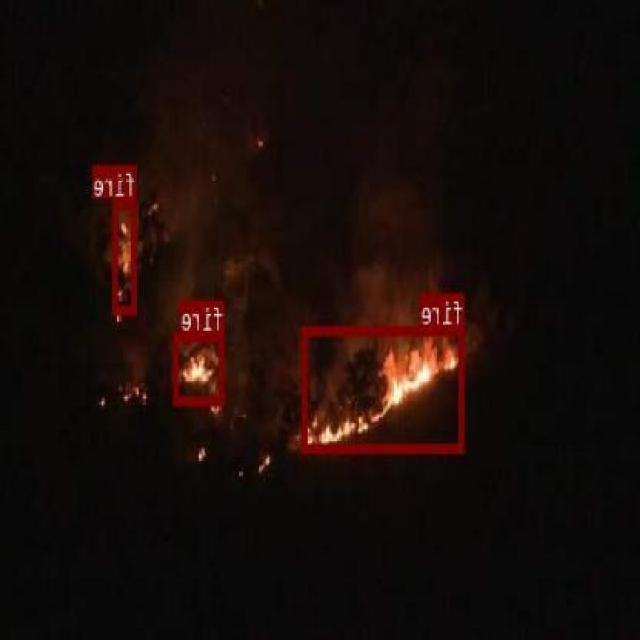Fire: (304, 326, 464, 452), (174, 330, 226, 404), (114, 198, 138, 312)
